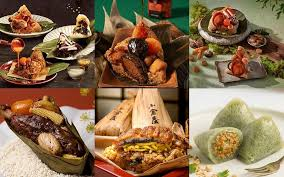zongzi: (104, 22, 166, 83), (9, 5, 41, 33), (55, 33, 82, 57), (75, 14, 90, 37)
